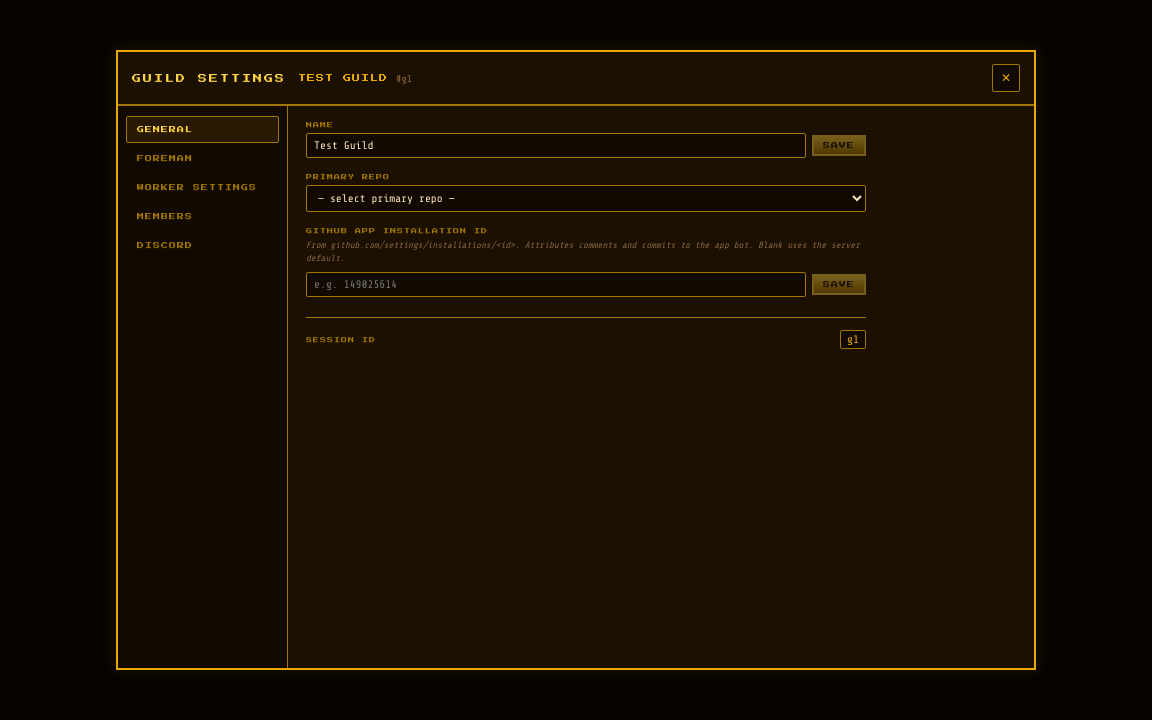
Test: GuildSettingsPanel foreman provider/model › preserves the bedrock model when toggling the provider off and back
Click the button with class "settings-tab" showing "Foreman": (202, 158) [126, 145, 279, 172]
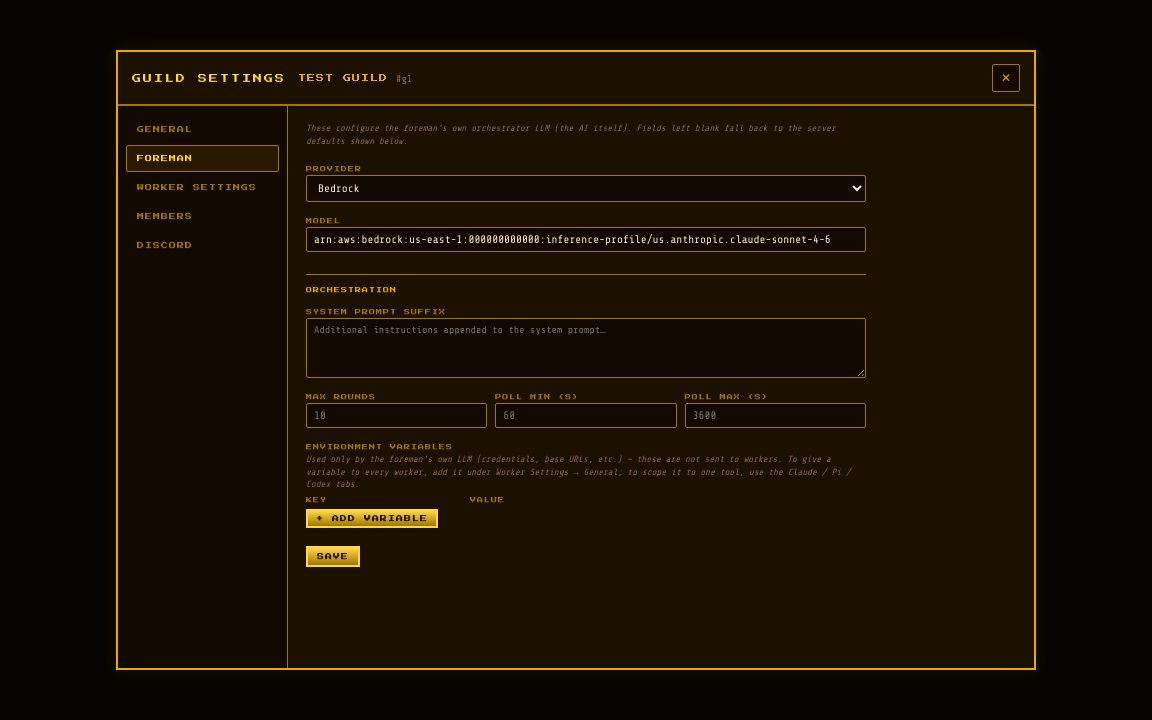
Expected: the dropdown shows "Bedrock"
Expected: the field holds "arn:aws:bedrock:us-east-1:000000000000:inference-profile/us.anthropic.claude-sonnet-4-6", [306, 227, 866, 252]
Select "default (anthropic)" in the dropdown: (586, 189) [306, 175, 866, 202]
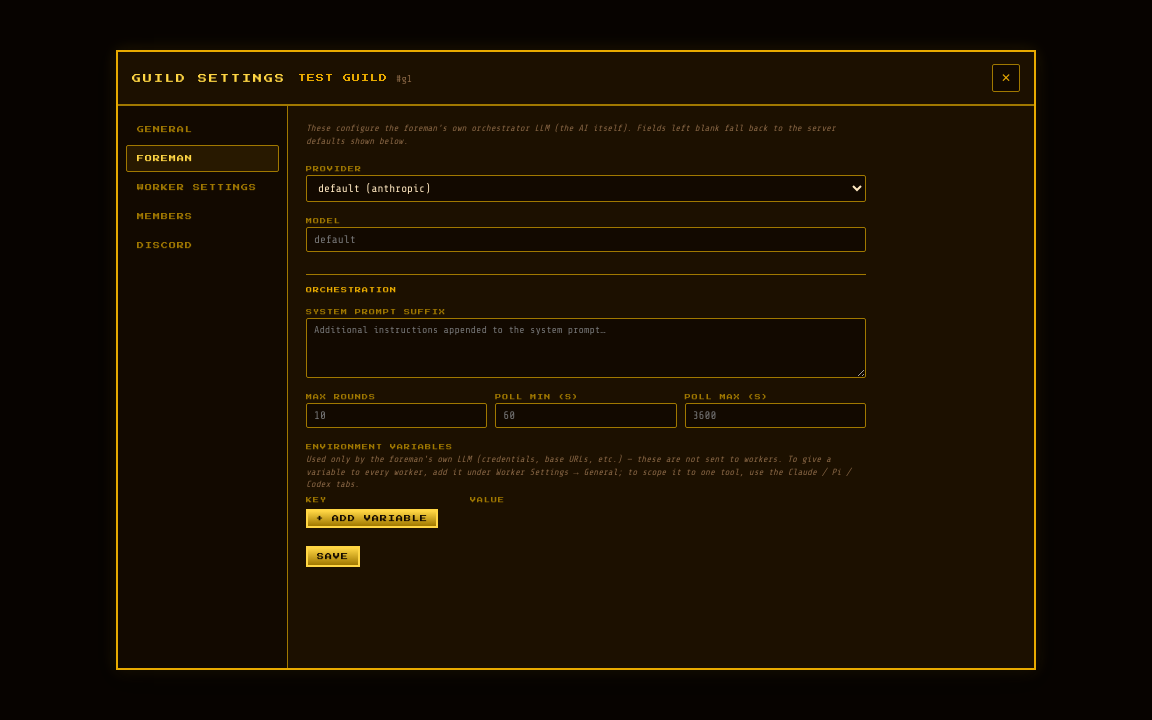
Expected: the field with placeholder "default" is empty, [306, 227, 866, 252]
Select "Bedrock" in the dropdown: (586, 189) [306, 175, 866, 202]
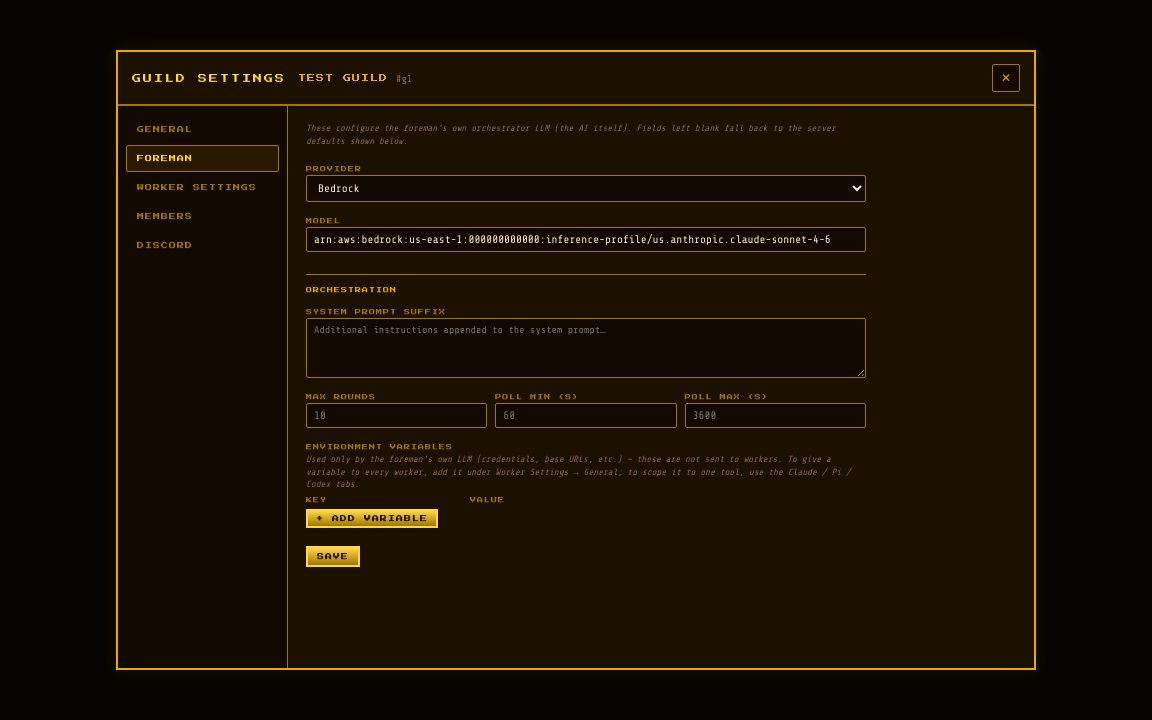
Expected: the field holds "arn:aws:bedrock:us-east-1:000000000000:inference-profile/us.anthropic.claude-sonnet-4-6", [306, 227, 866, 252]
